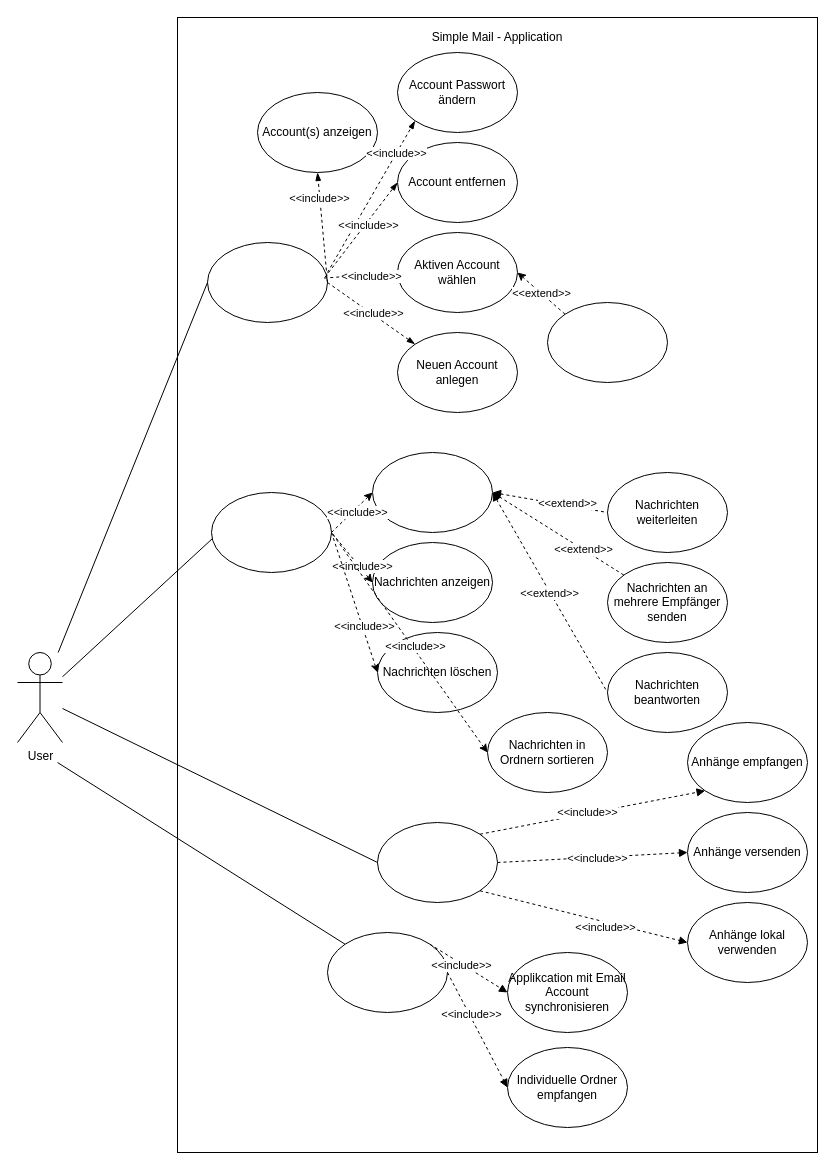
This 835x1170 diagram has some shape labels left out. The shapes that lost their labels are listed below. From the top down, each one's centre as x and y in pixels, then its label:
[267,282]: Accountverwaltung
[607,342]: Signatur Hinzufügen
[432,492]: Nachrichten senden
[271,532]: Nachrichten verwaltung
[437,862]: Mail-Anhang Verwaltung
[387,972]: Synchronisation
